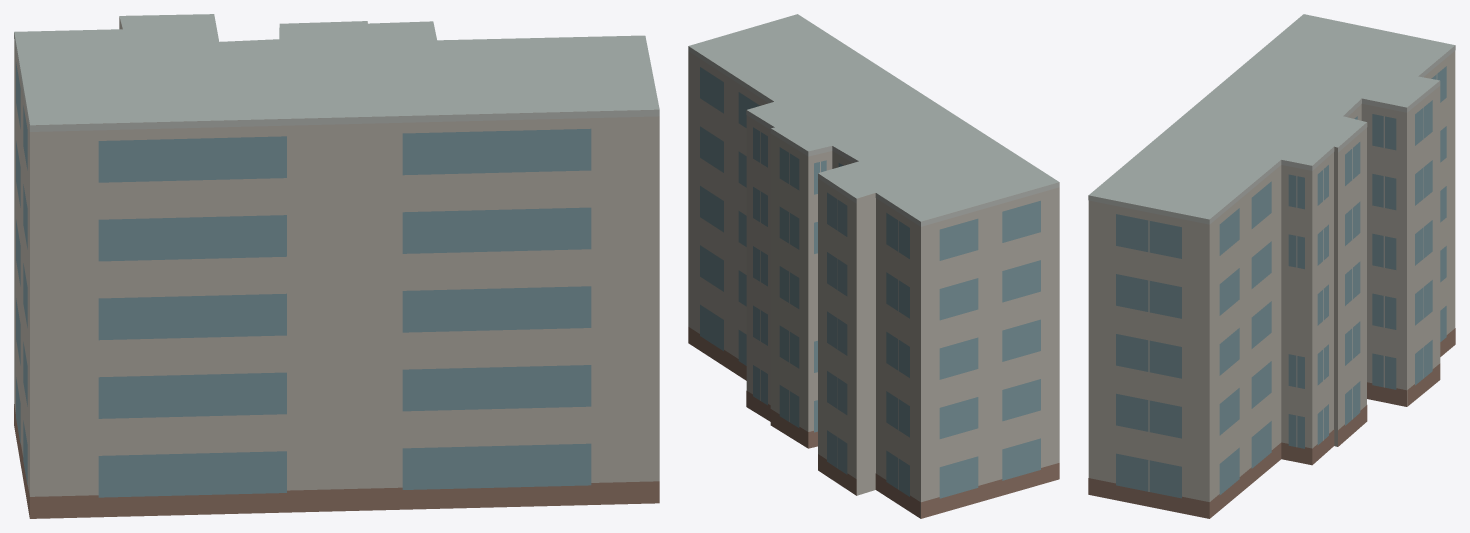
The model's file is survey-upis-32885866.glb.
3 renders of one model, left to right at view 1: azimuth 30°, elevation 25°; view 2: azimuth 150°, elevation 25°; view 3: azimuth 270°, elevation 25°, orthographic. The views are drawn at different scales.
Visible parts, largest first — view 1: survey-upis-32885866.tmp; view 2: survey-upis-32885866.tmp; view 3: survey-upis-32885866.tmp.
Boxes of the visible parts, left/top/right/bottom form: survey-upis-32885866.tmp: left=14, top=14, right=659, bottom=518; survey-upis-32885866.tmp: left=688, top=14, right=1059, bottom=518; survey-upis-32885866.tmp: left=1088, top=14, right=1455, bottom=518.
Bounding box in the file's own units: 20.84 × 14.15 × 15.73.
